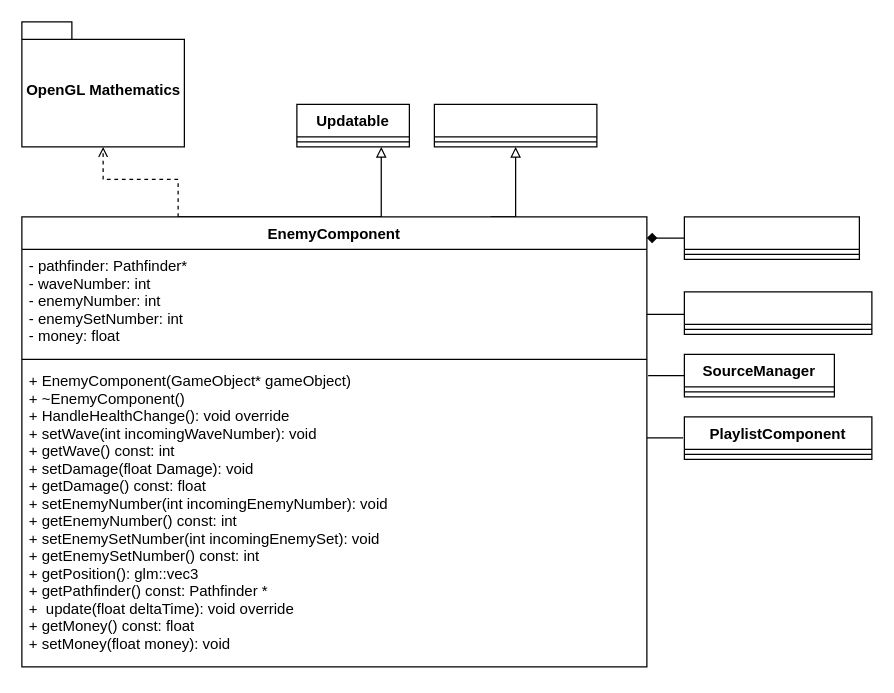
Some shapes in this 894 by 693 pixel diagram are drawn without their labels. The shapes that lost their labels are listed below. From the top down, each one's box as (x1, y1, x2, y2) in pixels, then its label:
(433, 103, 597, 147): HealthComponent
(683, 216, 859, 259): Pathfinder
(683, 291, 872, 334): TransformComponent
